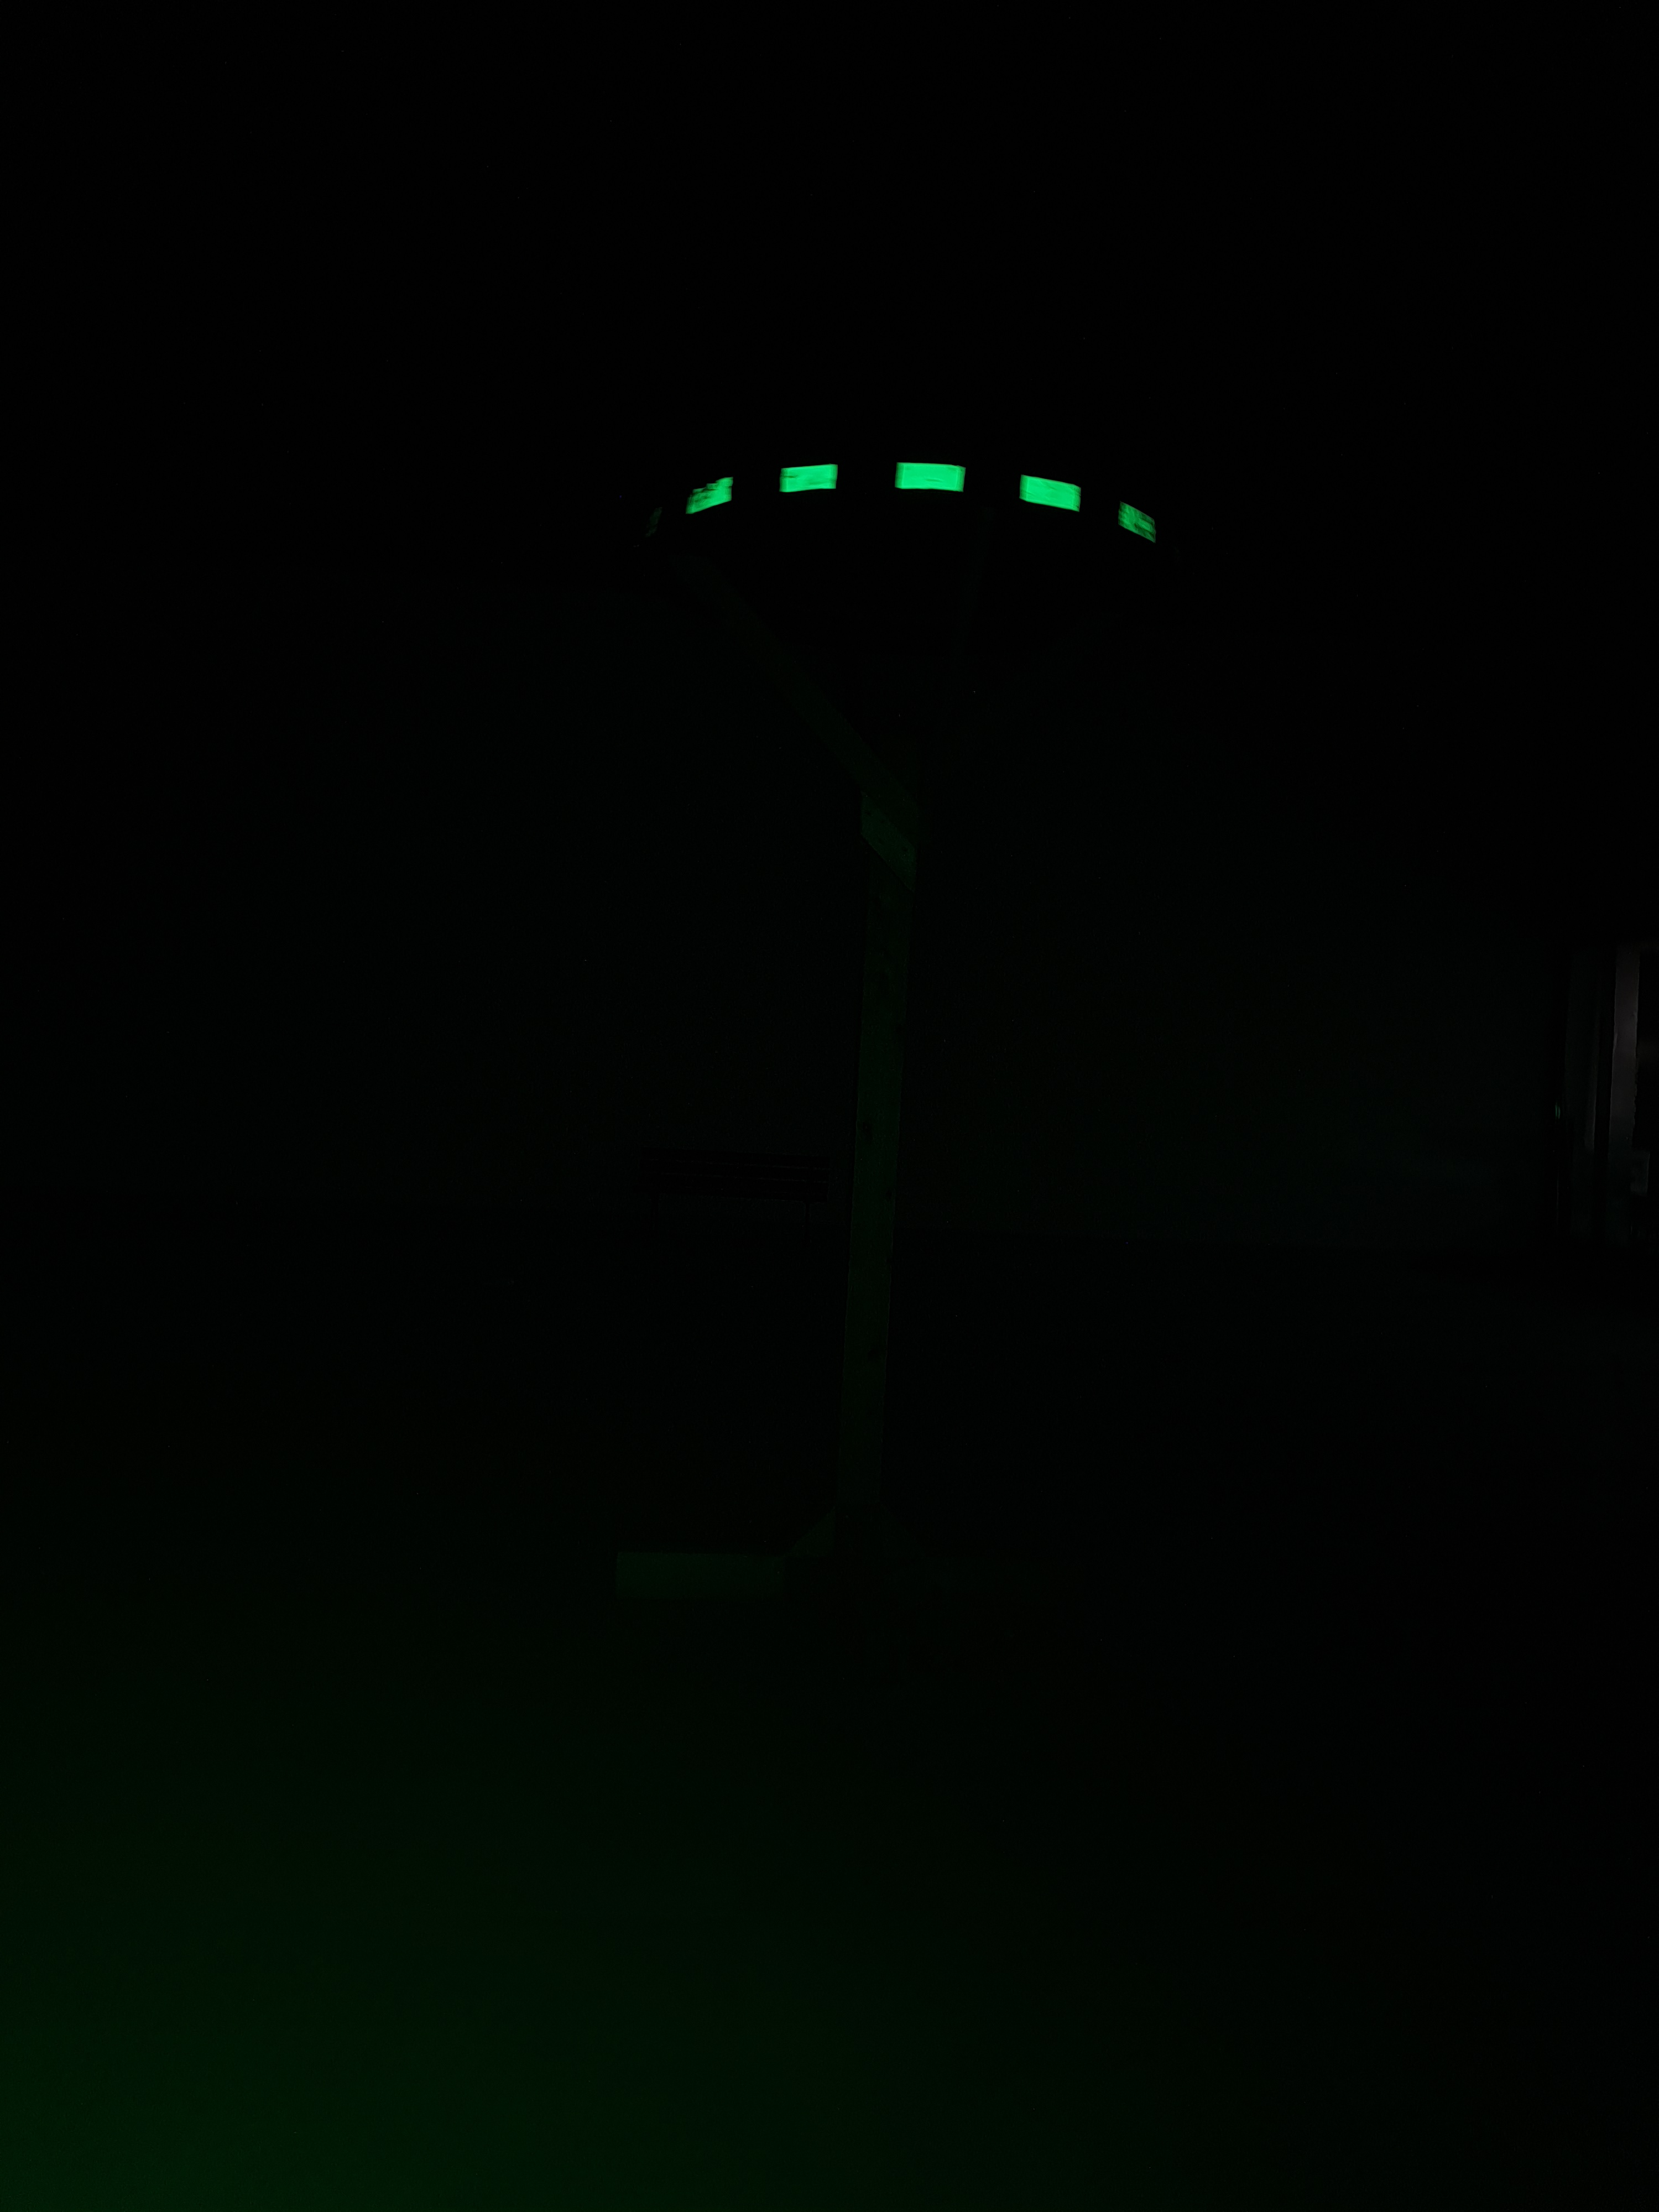hoop: (687, 460, 1155, 545)
